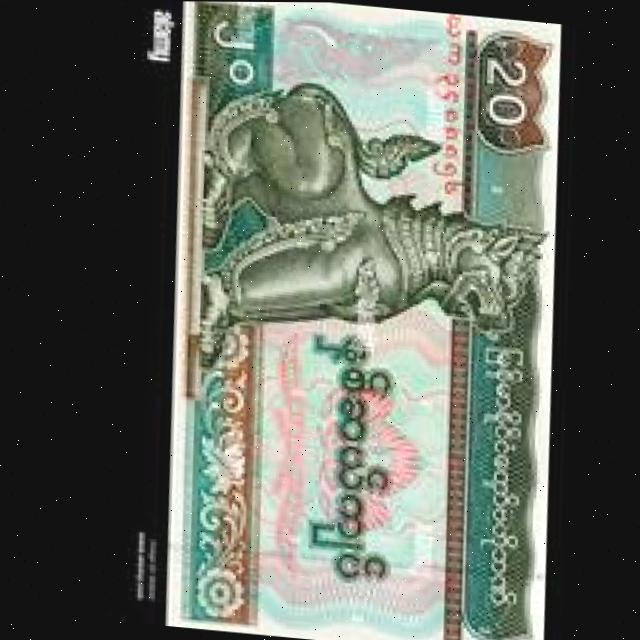banknote: (132, 1, 588, 640)
